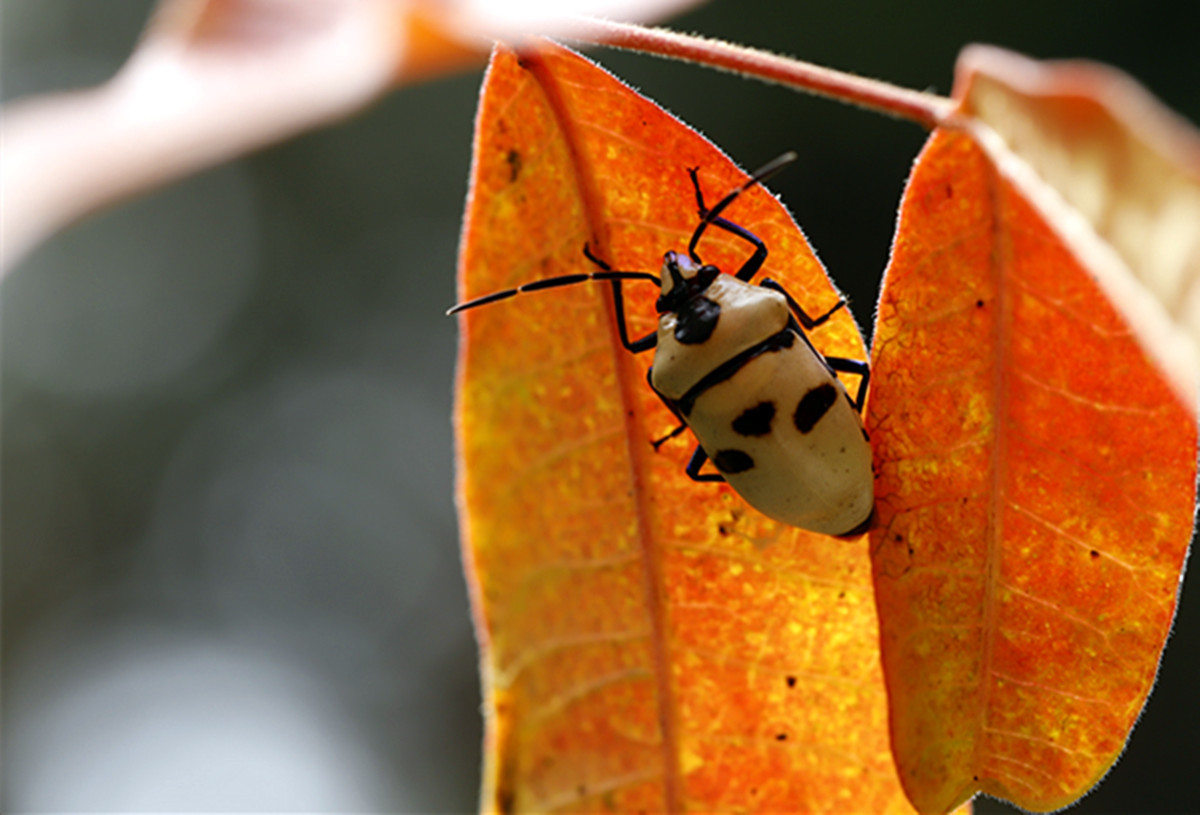chunchong: (565, 205, 887, 549)
